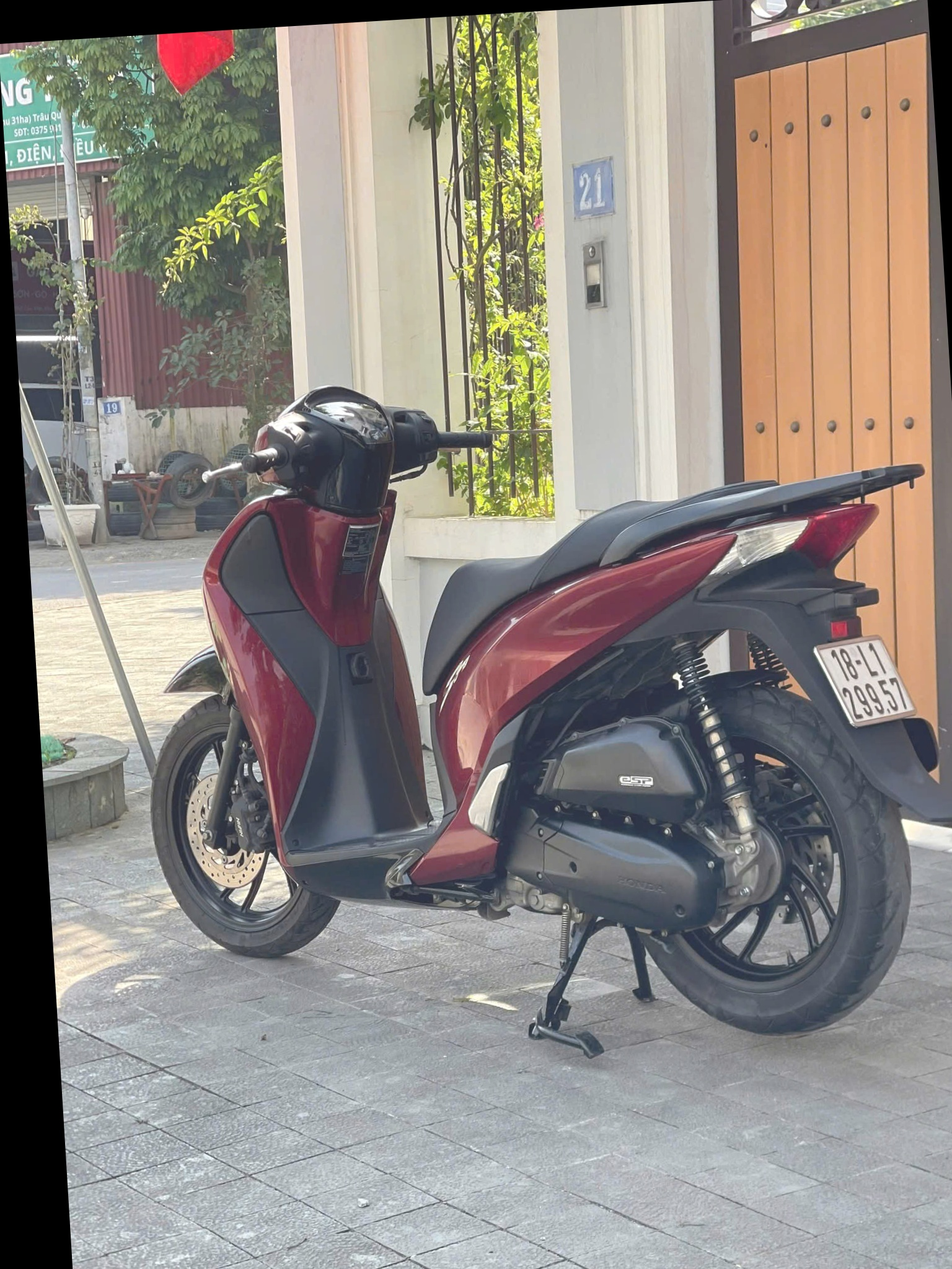Bien-so: (813, 628, 926, 731)
